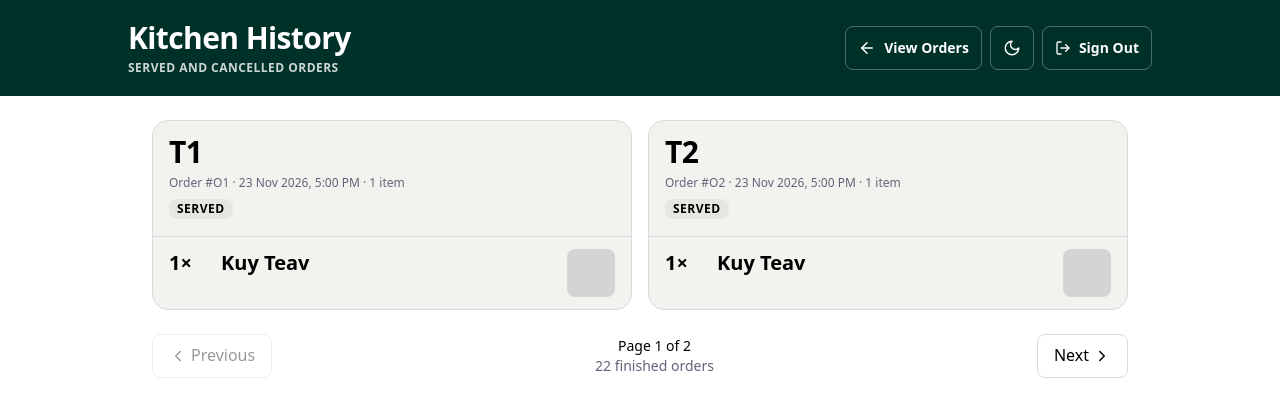
Test: kitchen history › shows one page of finished orders and moves between pages
Expected: the heading "T1" is shown, [168,130,244,172]
Expected: the text "Page 1 of 2 22 finished orders" is shown, [595,336,714,376]
Click the button "Next" at (1082, 356), box [1037,334,1128,378]
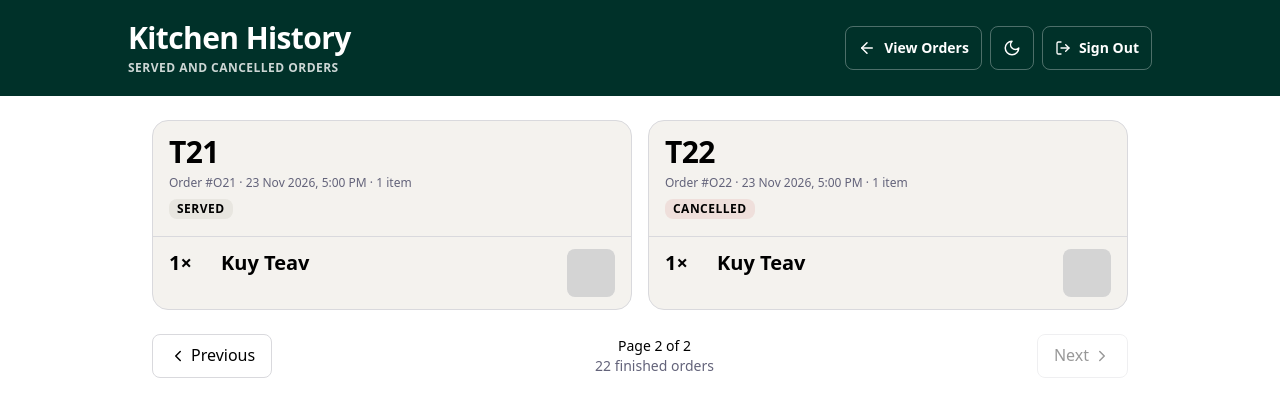
Expected: the heading "T21" is shown, [168,130,244,172]
Expected: the text "Page 2 of 2 22 finished orders" is shown, [595,336,714,376]
Expected: the button "Next" is disabled, [1037,334,1128,378]
